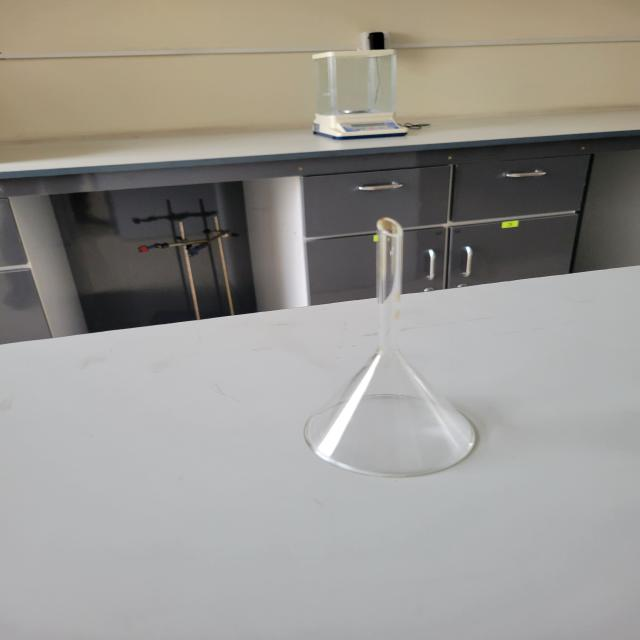Funnel: (258, 192, 516, 516)
